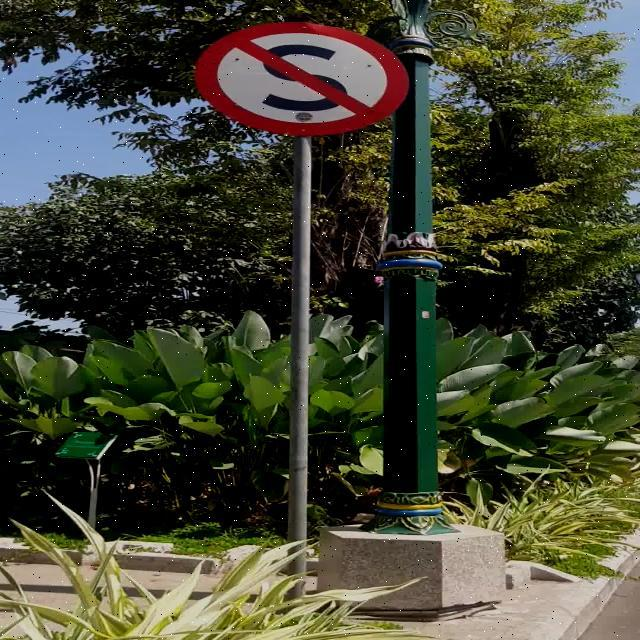Dilarang Berhenti: (195, 21, 409, 136)
